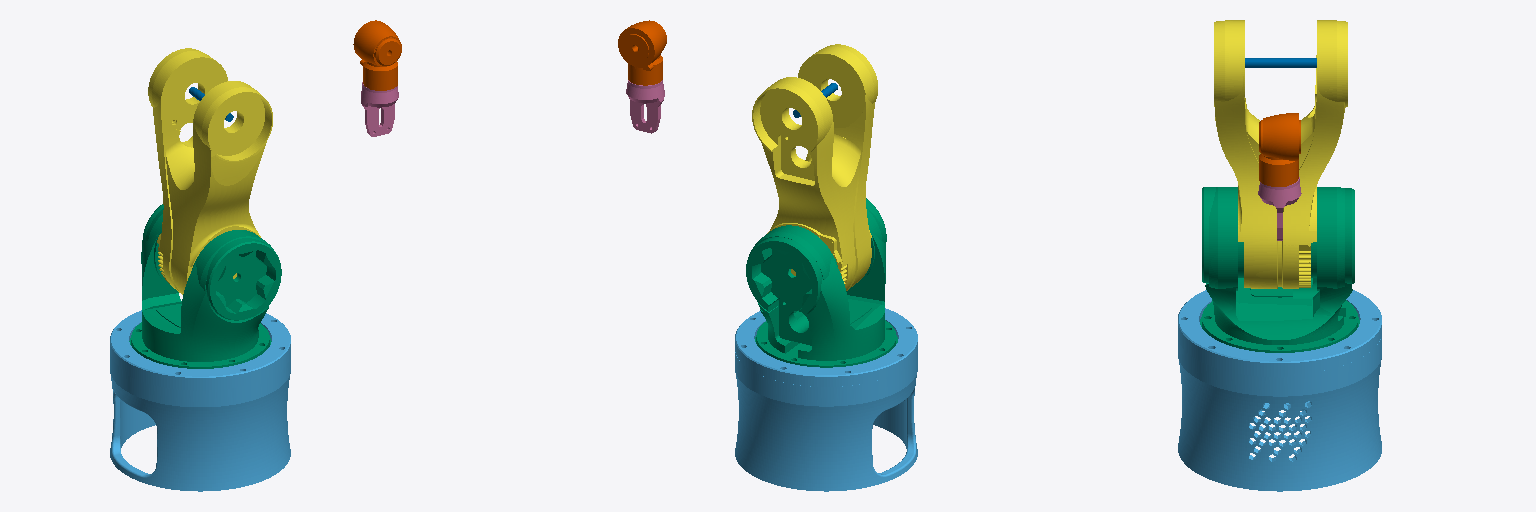
URDF robot description (manipulador):
<?xml version="1.0"?>
<robot name="manipulador">

<!--===================== LINKS =====================-->
  <link name = "floor">
  </link>
  <!-- Support - 1 parte -->
  <link name="Support">
    <!--origin rpy="0 0 0" xyz="0 0 0.54" /-->
    <inertial>
      <!-- Volume:  4.9678384375e-01 -->
      <mass value="1.0"/>

      <!-- Center of mass:  7.1726190000e-02  8.3274000000e-04  1.3966684000e-01 -->
      <origin xyz="7.1726190000e-02  8.3274000000e-04  1.3966684000e-01" rpy="0 0 0"/>

      <!-- Inertia matrix -->
      <inertia
        ixx="4.2189241908e-01"
        ixy="5.9379537743e-04"
        ixz="6.7296383368e-03" 
        iyy="3.8385869267e-01"
        iyz="2.9011387812e-04" 
        izz="5.6774468564e-01" 
      />
    </inertial>
    <visual name="Support">
      <origin rpy="0 0 0" xyz="0 0 0.55" />
      <geometry>
        <mesh filename="package://manipulador_description/meshes/Support/Support.stl"/>
      </geometry>
    </visual>
    <collision>
      <origin rpy="0 0 0" xyz="0 0 0.55" />
      <geometry>
        <mesh filename="package://manipulador_description/meshes/Support/Support.stl"/>
      </geometry>
    </collision>

    <visual name="Ring">
      <origin rpy="0 0 -0.004" xyz="0.00014 -0.002 1.13" />
      <geometry>
        <mesh filename="package://manipulador_description/meshes/Support/Ring.stl"/>
      </geometry>
    </visual>
    <collision>
      <origin rpy="0 0 -0.004" xyz="0.00014 -0.002 1.13" />
      <geometry>
        <mesh filename="package://manipulador_description/meshes/Support/Ring.stl"/>
      </geometry>
    </collision>
  </link>

  <!-- Base - 2 parte -->
  <link name="Base">
    <inertial>
      <!-- Volume:  5.1779593750e-01 -->
      <mass value="1.0"/>

      <!-- Center of mass:  1.0734090000e-02 -3.1306260000e-02 -2.0209423000e-01 -->
      <origin xyz="1.0734090000e-02 -3.1306260000e-02 -2.0209423000e-01" rpy="0 0 0"/>
      <inertia ixx="2.4985402980e-01"
        ixy= "2.8065590994e-03"
        ixz="-1.9526662277e-02"
        iyy="2.0700495202e-01" 
        iyz="2.6764250154e-04"
        izz="1.9692468754e-01"/>
    </inertial>

    <visual name="toothedRing">
      <origin xyz="0 0 -0.04" rpy="0 0 0"/>
      <geometry>
        <mesh filename="package://manipulador_description/meshes/Base/ToothedRing.stl"/>
      </geometry>
    </visual>
    <collision>
      <origin xyz="0 0 -0.04" rpy="0 0 0"/>
      <geometry>
        <mesh filename="package://manipulador_description/meshes/Base/ToothedRing.stl"/>
      </geometry>
    </collision>

    <visual name="base">
      <origin xyz="0 0 0.63" rpy="0 0 0"/>
      <geometry>
        <mesh filename="package://manipulador_description/meshes/Base/Base.stl"/>
      </geometry>
    </visual>
    <collision>
      <origin xyz="0 0 0.63" rpy="0 0 0"/>
      <geometry>
        <mesh filename="package://manipulador_description/meshes/Base/Base.stl"/>
      </geometry>
    </collision>
  </link>

  <!-- Lower Arm - 3 parte -->
  <link name="LowerArm">
    <!--origin xyz="0.117 -0.015 2.15" rpy="0 0 0"/-->
    <inertial>
      <!-- Volume:  7.2606862500e-01 -->
      <mass value="1.0"/>

     <!-- Center of mass: -2.9281710000e-02 -1.9001520000e-02  4.2914791000e-01 -->
      <origin xyz="-2.9281710000e-02 -1.9001520000e-02  4.2914791000e-01" rpy="0 0 0"/>
      <inertia 
        ixx="2.0930545622e-01"
        ixy="-2.3801660277e-04"
        ixz="2.1646688011e-03"
        iyy="1.9833343770e-01" 
        iyz="1.4079684100e-04"
        izz="5.1472661830e-02"/>
    </inertial>
    <visual name="Arm1">
      <origin xyz="0 0 0.15" rpy="0 0 0"/>
      <geometry>
        <mesh filename="package://manipulador_description/meshes/LowerArm/LowerArm.stl"/>
      </geometry>
    </visual>
    <collision>
      <origin xyz="0 0 0.15" rpy="0 0 0"/>
      <geometry>
        <mesh filename="package://manipulador_description/meshes/LowerArm/LowerArm.stl"/>
      </geometry>
    </collision>
    
    <visual name="pino">
      <origin xyz="0.005 0 0" rpy="1.5708 1.5708 0"/>
      <geometry>
        <cylinder length="0.8" radius="0.04"/>
      </geometry>
    </visual>
    <collision name="pino">
      <geometry>
        <cylinder length="0.8" radius="0.04"/>
      </geometry>
    </collision>
  </link>

  <!-- Upper Arm - 4 parte -->
  <link name="UpperArm">
    <!--origin xyz="0.22 0.001 3.63" rpy="0 0 0"/-->  
    <inertial>
      <!-- Volume:  6.3770118750e-01 -->
      <mass value="0.2"/>

     <!-- Center of mass:  5.4617455000e-01  4.7914700000e-03  7.7464810000e-02 -->
      <origin xyz="5.4617455000e-01  4.7914700000e-03  7.7464810000e-02" rpy="0 0 0"/>
      <inertia 
        ixx="3.0737638857e-02"
        ixy="-5.9791790806e-03"
        ixz="-1.8271795362e-02"
        iyy="2.0499584345e-01" 
        iyz="-8.6160095162e-04"
        izz="2.0368961160e-01"/>
    </inertial>  
    <visual name="upperArm">
      <origin xyz="0.103 0 0.035" rpy="0 0 0"/>
      <geometry>
        <mesh filename="package://manipulador_description/meshes/UpperArm/UpperArm.stl"/>
      </geometry>
    </visual>
    <collision>
      <geometry>
        <mesh filename="package://manipulador_description/meshes/UpperArm/UpperArm.stl"/>
      </geometry>
    </collision>

    <visual name="pinoUpper">
      <origin xyz="0 0 0" rpy="1.5708 1.5708 0"/>
      <geometry>
        <cylinder length="0.7" radius="0.04"/>
      </geometry>
    </visual>
    <collision>
      <origin xyz="0 0 0" rpy="1.5708 1.5708 0"/>
      <geometry>
        <cylinder length="0.7" radius="0.04"/>
      </geometry>
    </collision>
  </link>

  <!-- GrasperHolder - 5 parte -->
  <link name="GrasperHolder">
    <inertial>
      <!-- Volume:  4.6362562500e-02 -->
      <mass value="0.1"/>

      <!-- Center of mass: -3.0875000000e-04  8.1761400000e-03  2.6252960000e-02 -->
      <origin xyz="-3.0875000000e-04  8.1761400000e-03  2.6252960000e-02" rpy="0 0 0"/>
      <inertia 
        ixx="5.9870685534e-03"
        ixy="9.5459665061e-06"
        ixz="-1.1134579051e-05"
        iyy="5.9527261894e-03" 
        iyz="-2.7627261220e-04"
        izz="3.5809690200e-03"/>
    </inertial>
    <visual name="grasperHolder">
      <origin xyz="0.004 0 -0.087" rpy="0 0 0"/>
      <geometry>
        <mesh filename="package://manipulador_description/meshes/GrasperHolder/GrasperHolder.stl"/>
      </geometry>
    </visual>
    <collision>
      <geometry>
        <mesh filename="package://manipulador_description/meshes/GrasperHolder/GrasperHolder.stl"/>
      </geometry>
    </collision>
  </link>

  <!-- Grasper - 6 parte -->
  <link name="Grasper">
    <inertial>
      <!-- Volume:  5.9164203125e-02 -->
      <mass value="0.1"/>

      <!-- Center of mass:  3.3870000000e-04  4.5093000000e-04 -2.3830086000e-01 -->
      <origin xyz="3.3870000000e-04  4.5093000000e-04 -2.3830086000e-01" rpy="0 0 0"/>
      <inertia 
        ixx="1.0964352864e-02"
        ixy="2.3511915923e-06"
        ixz="1.0524369545e-05"
        iyy="1.2156277648e-02" 
        iyz="1.0870709670e-05"
        izz="1.9657217347e-03"/>
    </inertial>  

    <visual name="grasperBody">
      <origin xyz="0 0 -0.2" rpy="0 0 0"/>
      <geometry>
        <mesh filename="package://manipulador_description/meshes/Grasper/GrasperBody.stl"/>
      </geometry>
    </visual>
    <collision>
      <geometry>
        <mesh filename="package://manipulador_description/Grasper/GrasperBody.stl"/>
      </geometry>
    </collision>
  </link>

<!--===================== Joints ===================== -->
  <joint name="base" type="fixed">
    <parent link="floor"/>
    <child link="Support"/>
  </joint>
  <!-- joint 1 - Support/Base -->
  <joint name="first" type="revolute">
    <origin xyz="0 0 1.15" rpy="0 0 0"/>
    <axis xyz="0 0 1"/>
    <parent link="Support"/>
    <child link="Base"/>
    <limit effort="50" lower="-3.14159" upper="3.14159" velocity="1"/>
    <dynamics damping="0.7" friction="0.0"/>
  </joint>

  <!-- joint 2 - Base/ Lower Arm -->
  <joint name="second" type="revolute">
    <origin xyz="0.116 -0.015 0.85" rpy="0 0 0"/>
    <axis xyz="0 1 0"/>
    <parent link="Base"/>
    <child link="LowerArm"/>
    <limit effort="50" lower="-1.5708" upper="1.5708" velocity="1"/>
    <dynamics damping="0.7" friction="0.0"/>
  </joint>

  <!-- joint 3 - Lower Arm/ Upper Arm  -->
  <joint name="third" type="revolute">
    <origin xyz="0.001 0.014 1.6" rpy="0 0 0"/>
    <axis xyz="0 1 0"/>
    <parent link="LowerArm"/>
    <child link="UpperArm"/>
    <limit effort="50" lower="-1.5708" upper="0" velocity="1"/>
    <dynamics damping="0.7" friction="0.0"/>
  </joint>

  <!-- joint 4 - Upper Arm/Grasper Holder  -->
  <joint name="fourth" type="revolute">
    <origin xyz="1.826 -0.001 0.17" rpy="0 0 0"/>
    <axis xyz="0 1 0"/>
    <parent link="UpperArm"/>
    <child link="GrasperHolder"/>
    <limit effort="50" lower="-1.5708" upper="0" velocity="1"/>
    <dynamics damping="0.7" friction="0.0"/>
  </joint>

  <!-- joint 5 - Grasper Holder/Grasper  -->
  <joint name="fifth" type="revolute">
    <origin xyz="0 0 -0.37" rpy="0 0 0"/>
    <axis xyz="0 0 1"/>
    <parent link="GrasperHolder"/>
    <child link="Grasper"/>
    <limit effort="50" lower="-1.5708" upper="1.5708" velocity="1"/>
    <dynamics damping="0.7" friction="0.0"/>
  </joint>

<!--===================== TRANSMISSION ===================== -->
  <!-- transmission 1 - Support/Base -->
  <transmission name="first_transmission">
    <type>transmission_interface/SimpleTransmission</type>
    <joint name="first">
      <hardwareInterface>PositionJointInterface</hardwareInterface>
    </joint>
    <actuator name="$support_base_motor">
      <mechanicalReduction>1</mechanicalReduction>
    </actuator> 
  </transmission>

  <!-- transmission 2 - Base/Lower Arm -->
  <transmission name="second_transmission">
    <type>transmission_interface/SimpleTransmission</type>
    <joint name="second">
      <hardwareInterface>PositionJointInterface</hardwareInterface>
    </joint>
    <actuator name="base_lowerArm_motor">
      <mechanicalReduction>1</mechanicalReduction>
    </actuator> 
  </transmission>

  <!-- transmission 3 - Lower Arm/Upper Arm -->
  <transmission name="third_transmission">
    <type>transmission_interface/SimpleTransmission</type>
    <joint name="third">
      <hardwareInterface>PositionJointInterface</hardwareInterface>
    </joint>
    <actuator name="$LowerArm_UpperArm_motor">
      <mechanicalReduction>1</mechanicalReduction>
    </actuator> 
  </transmission>

  <!-- transmission 4 - Upper Arm/Grasper Holder -->
  <transmission name="fourth_transmission">
    <type>transmission_interface/SimpleTransmission</type>
    <joint name="fourth">
      <hardwareInterface>PositionJointInterface</hardwareInterface>
    </joint>
    <actuator name="$UpperArm_GrasperHolder_motor">
      <mechanicalReduction>1</mechanicalReduction>
    </actuator> 
  </transmission>
  
  <!-- transmission 5 - Grasper Holder/Grasper -->
  <transmission name="fifth_transmission">
    <type>transmission_interface/SimpleTransmission</type>
    <joint name="fifth">
      <hardwareInterface>PositionJointInterface</hardwareInterface>
    </joint>
    <actuator name="$GrasperHolder_Grasper_motor">
      <mechanicalReduction>1</mechanicalReduction>
    </actuator> 
  </transmission>
 

<!-- ========================== PLUGINS ========================== -->
  <gazebo>
    <plugin name="gazebo_ros_control" filename="libgazebo_ros_control.so">
      <robotNamespace>/manipulador</robotNamespace>
    </plugin>
  </gazebo>

</robot>

--- Facts derived from the render (not from the file) ---
The picture shows the robot from 3 angles, left to right: view 1: azimuth 30°, elevation 25°; view 2: azimuth 150°, elevation 25°; view 3: azimuth 270°, elevation 25°; orthographic projection.
Robot: manipulador — 7 links, 6 joints (5 revolute, 1 fixed); root link floor; default pose: every joint at zero.
Visible links, largest first — view 1: Support, LowerArm, Base, GrasperHolder, Grasper; view 2: Support, LowerArm, Base, GrasperHolder, Grasper; view 3: Support, LowerArm, Base, GrasperHolder, Grasper, UpperArm.
Link boxes in pixels (<box>): Support: <box>110,310,290,491</box>; LowerArm: <box>148,48,272,294</box>; Base: <box>129,204,281,368</box>; GrasperHolder: <box>353,20,401,90</box>; Grasper: <box>361,82,398,136</box>; Support: <box>735,308,917,491</box>; LowerArm: <box>752,44,877,290</box>; Base: <box>746,198,897,367</box>; GrasperHolder: <box>618,20,666,85</box>; Grasper: <box>626,80,664,133</box>; Support: <box>1178,290,1381,491</box>; LowerArm: <box>1214,20,1347,288</box>; Base: <box>1200,187,1359,352</box>; GrasperHolder: <box>1259,113,1300,186</box>; Grasper: <box>1258,177,1301,240</box>; UpperArm: <box>1245,58,1316,67</box>.
Bounding box of the posed robot: 3 × 1.7 × 3.96 m (x, y, z).
7 mesh visuals loaded from 8 distinct referenced files (7 binary STL); not drawn: 1 (reference not matched to a file when rendering).